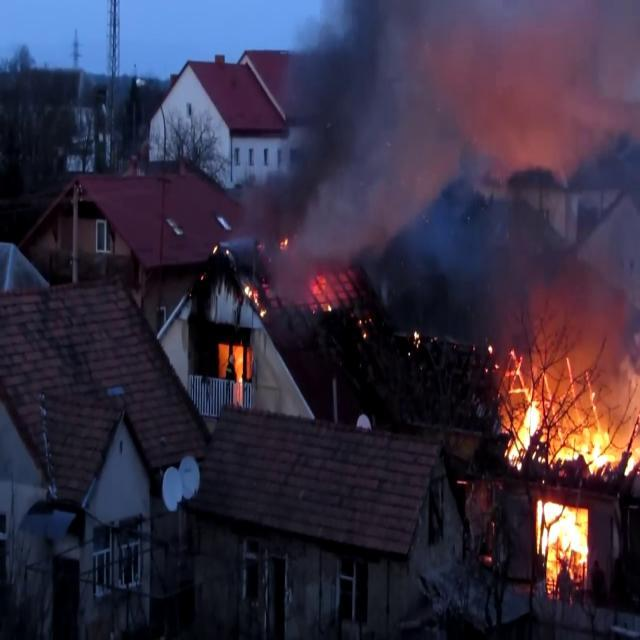Fire: (495, 350, 545, 468), (534, 496, 592, 590), (551, 414, 621, 476), (216, 332, 254, 392)
Smoke: (242, 0, 638, 292)
